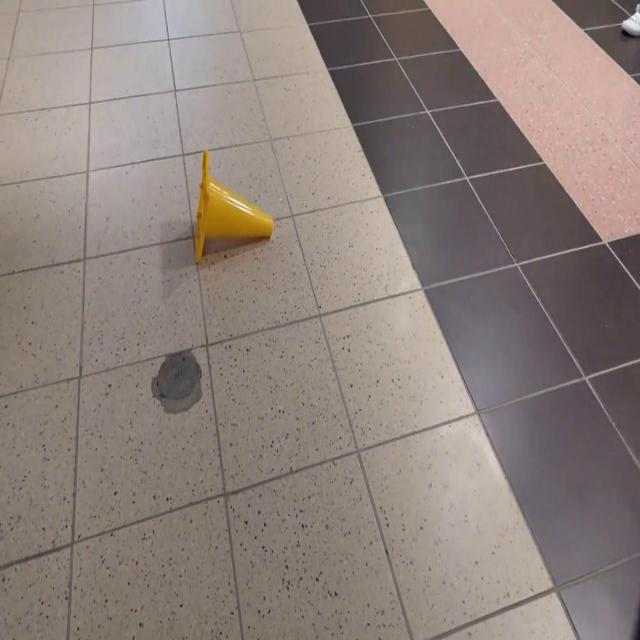frc_cone: (192, 149, 274, 264)
